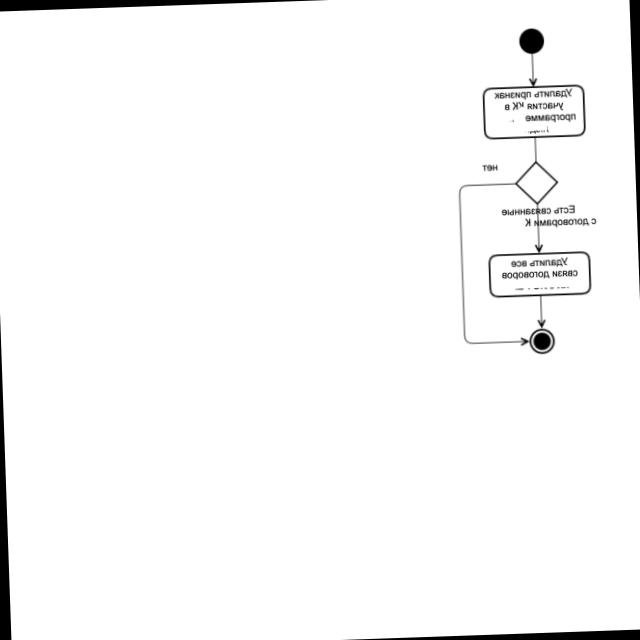arrow: (457, 179, 529, 348), (533, 203, 543, 253), (535, 294, 547, 328), (527, 53, 538, 86), (531, 136, 541, 163)
circle: (514, 25, 548, 58), (529, 329, 553, 353)
diamond: (514, 161, 558, 205)
rectangle: (482, 85, 585, 139), (488, 251, 590, 298)
text_region: (497, 203, 597, 228), (481, 161, 501, 174)
